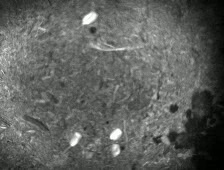corn: (81, 10, 99, 29), (107, 126, 125, 143), (107, 141, 123, 159), (68, 130, 84, 148)
